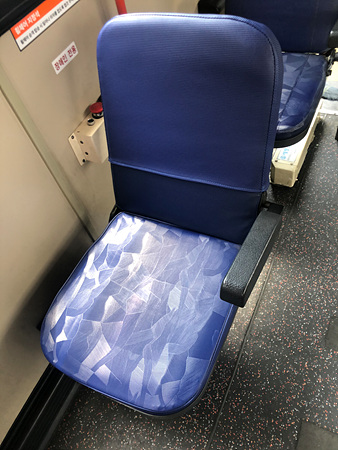seat: (40, 17, 273, 404)
